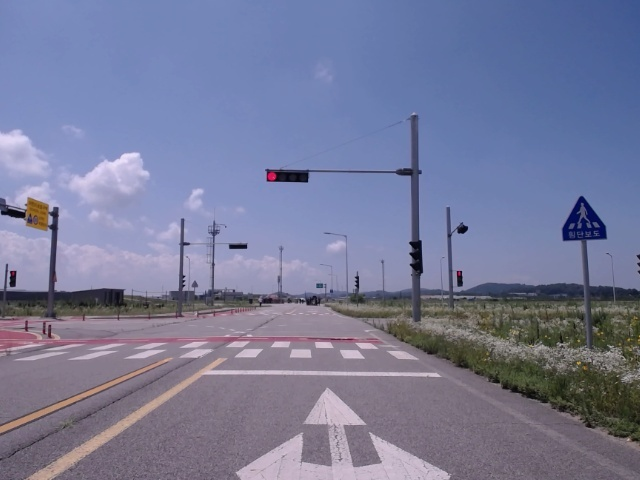red_4: (267, 171, 309, 182)
